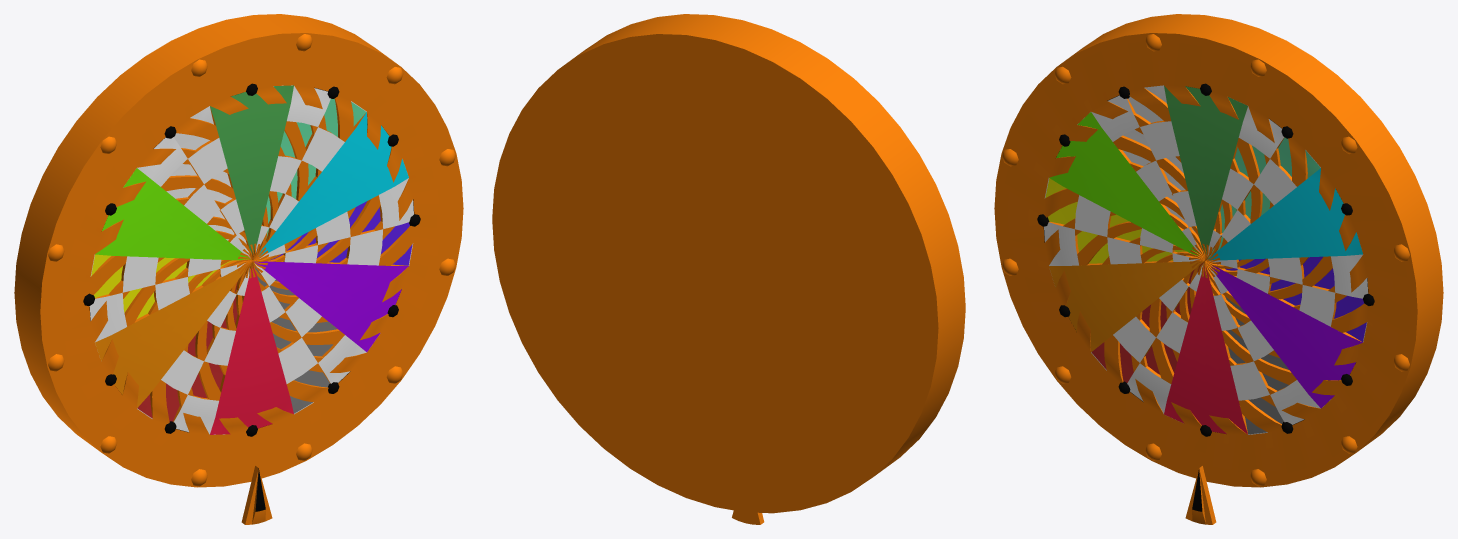
Rendered from wheels.fbx.
The picture shows the model from 3 angles, left to right: view 1: azimuth 30°, elevation 25°; view 2: azimuth 150°, elevation 25°; view 3: azimuth 330°, elevation 25°; orthographic projection. The views are drawn at different scales.
Visible parts, largest first — view 1: hypnotic, colorful, chess, points, arrow; view 2: colorful, chess, hypnotic; view 3: hypnotic, colorful, chess, points, arrow.
Boxes of the visible parts, x1,y1,x2,y2 form: hypnotic: (14,14,463,487); colorful: (14,14,412,434); chess: (14,14,413,439); points: (48,34,455,486); arrow: (241,466,272,524); colorful: (492,14,965,513); chess: (565,14,953,505); hypnotic: (562,14,965,452); hypnotic: (994,14,1443,487); colorful: (1045,14,1443,434); chess: (1044,14,1442,442); points: (1002,34,1409,486); arrow: (1185,466,1216,524).
Bounding box in the file's own units: 2 × 2.17 × 0.2836.
